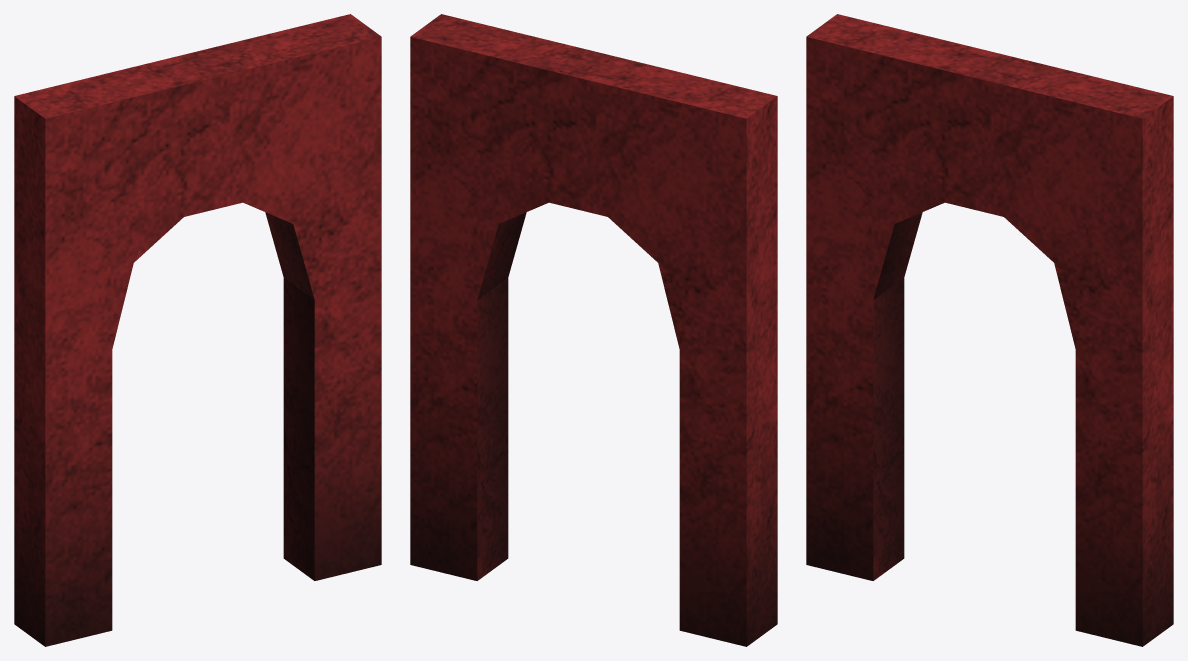
Rendered from Gate.fbx.
The picture shows the model from 3 angles, left to right: view 1: azimuth 30°, elevation 25°; view 2: azimuth 150°, elevation 25°; view 3: azimuth 330°, elevation 25°; orthographic projection.
Visible parts, largest first — view 1: Standard_gate; view 2: Standard_gate; view 3: Standard_gate.
Part boxes in pixels (left/top/right/bottom): Standard_gate: left=14, top=14, right=381, bottom=646; Standard_gate: left=410, top=14, right=777, bottom=646; Standard_gate: left=806, top=14, right=1173, bottom=646.
Bounding box in the file's own units: 200 × 300 × 32.
